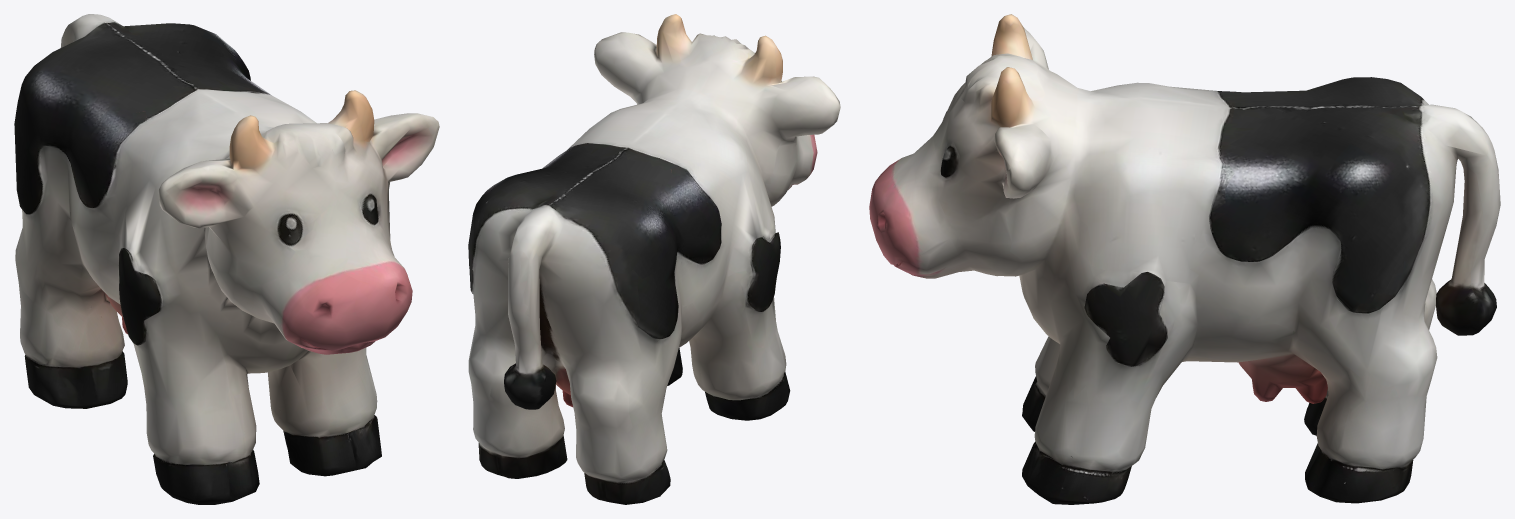
Rendered from cow.glb.
3 views of the same model, side by side, from view 1: azimuth 30°, elevation 25°; view 2: azimuth 150°, elevation 25°; view 3: azimuth 270°, elevation 25° (orthographic). The views are drawn at different scales.
Visible parts, largest first — view 1: tripo_node_b2c2860f-df6c-4a9b-ad7f-b8537f604262; view 2: tripo_node_b2c2860f-df6c-4a9b-ad7f-b8537f604262; view 3: tripo_node_b2c2860f-df6c-4a9b-ad7f-b8537f604262.
Part boxes in pixels (bbox=[...]): tripo_node_b2c2860f-df6c-4a9b-ad7f-b8537f604262: bbox=[14, 14, 439, 504]; tripo_node_b2c2860f-df6c-4a9b-ad7f-b8537f604262: bbox=[468, 14, 840, 504]; tripo_node_b2c2860f-df6c-4a9b-ad7f-b8537f604262: bbox=[869, 14, 1500, 504].
Bounding box in the file's own units: 0.5354 × 0.7267 × 0.9996.
Materials: 1 (1 with a texture image).
